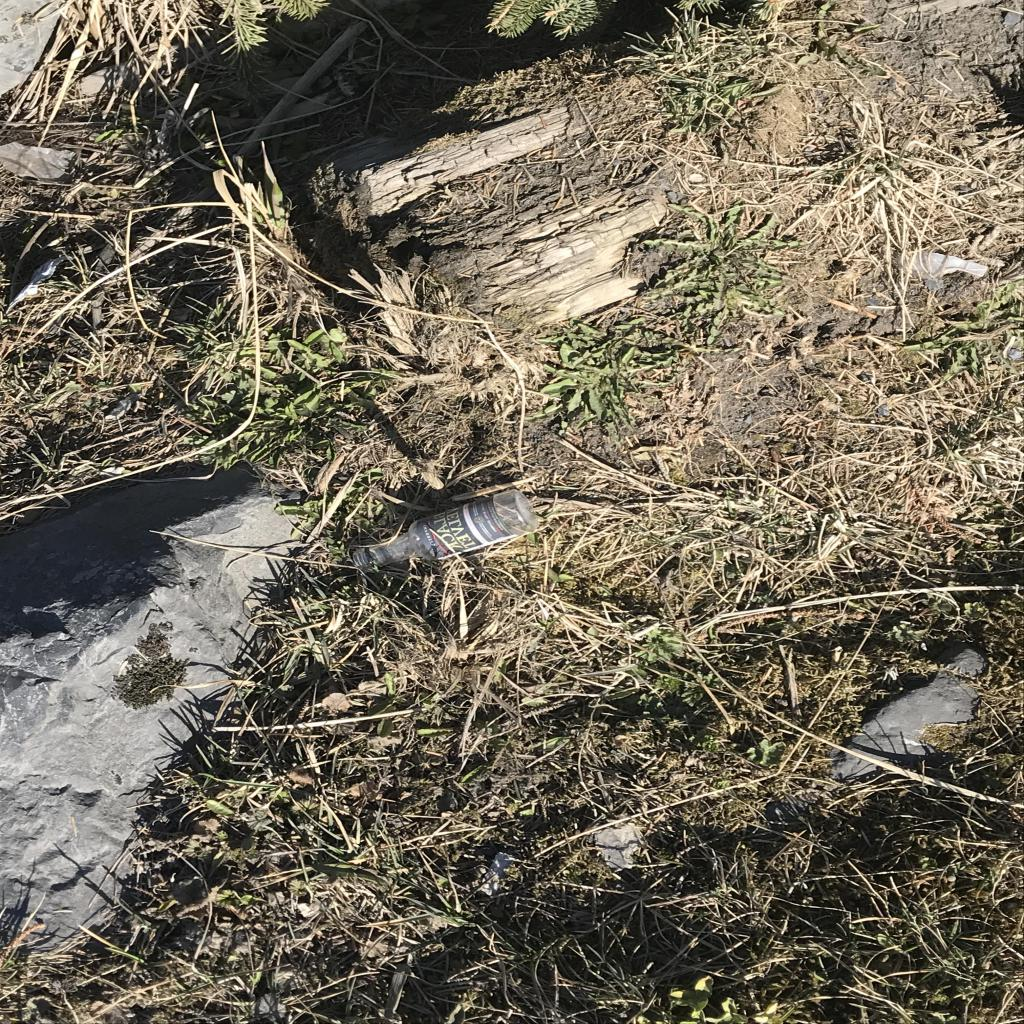Glass bottle: (352, 488, 538, 570)
Other plastic wrapper: (915, 251, 990, 279)
